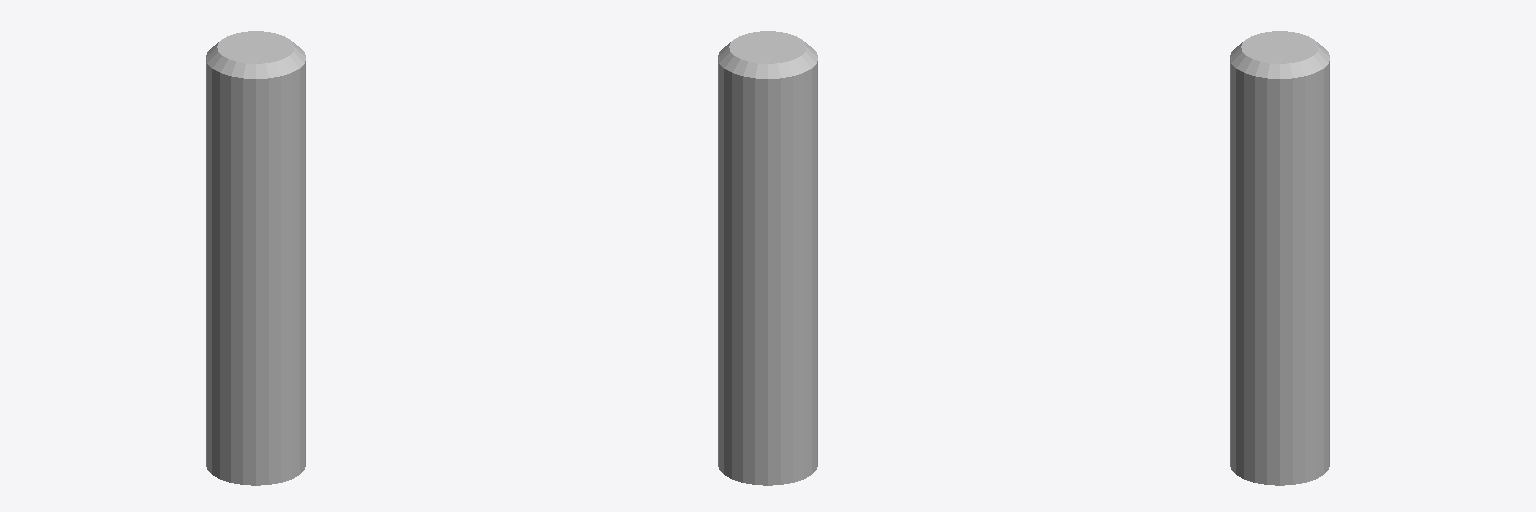
File: _1251A197_Black_Oxide_Alloy_Steel_Socket_Head_Screw_10__1251A197_Black_Oxide_Alloy_Steel_Socket_Head_Screw__1251A197_Black_Oxide_Alloy_Steel_Socket_Head_Screw.obj
3 views of the same model, side by side, from view 1: azimuth 30°, elevation 25°; view 2: azimuth 150°, elevation 25°; view 3: azimuth 270°, elevation 25° (orthographic).
Bounding box in the file's own units: 0.0042 × 0.0191 × 0.0042.